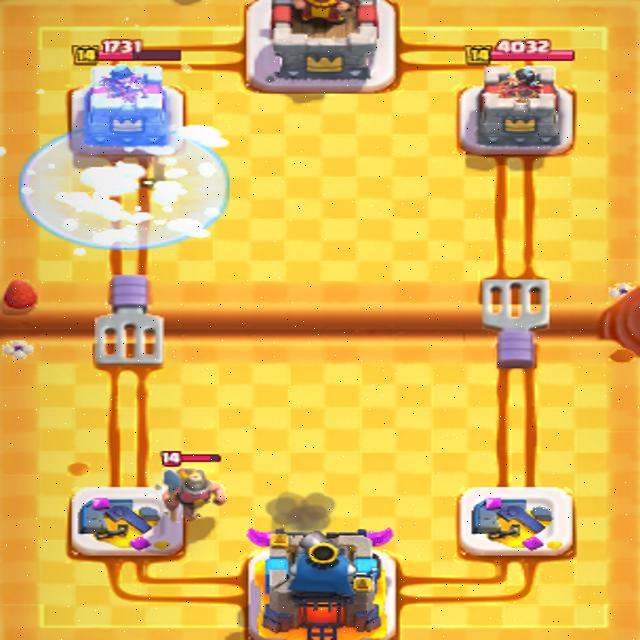EKingTower: (249, 0, 397, 89)
EMiner: (162, 453, 227, 519)
EnemyPrincessTower: (470, 59, 562, 154)
OwnKingTower: (240, 531, 402, 638)
TowerDown: (459, 491, 577, 564), (73, 491, 181, 555)
